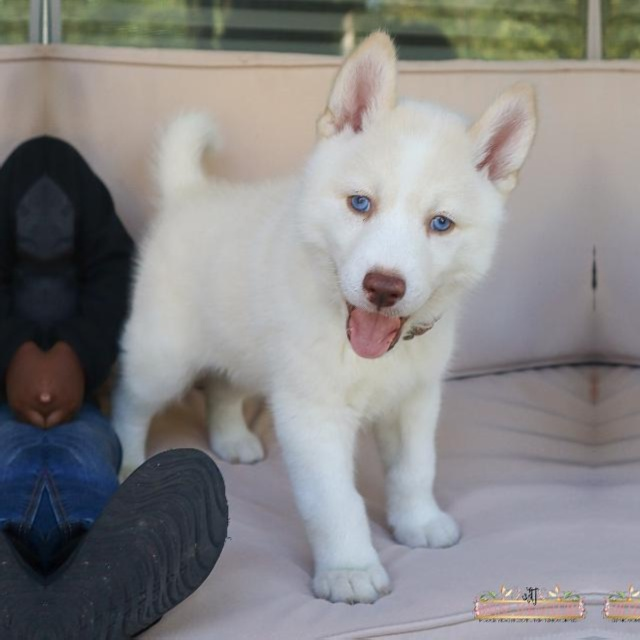dog: (132, 15, 538, 592)
